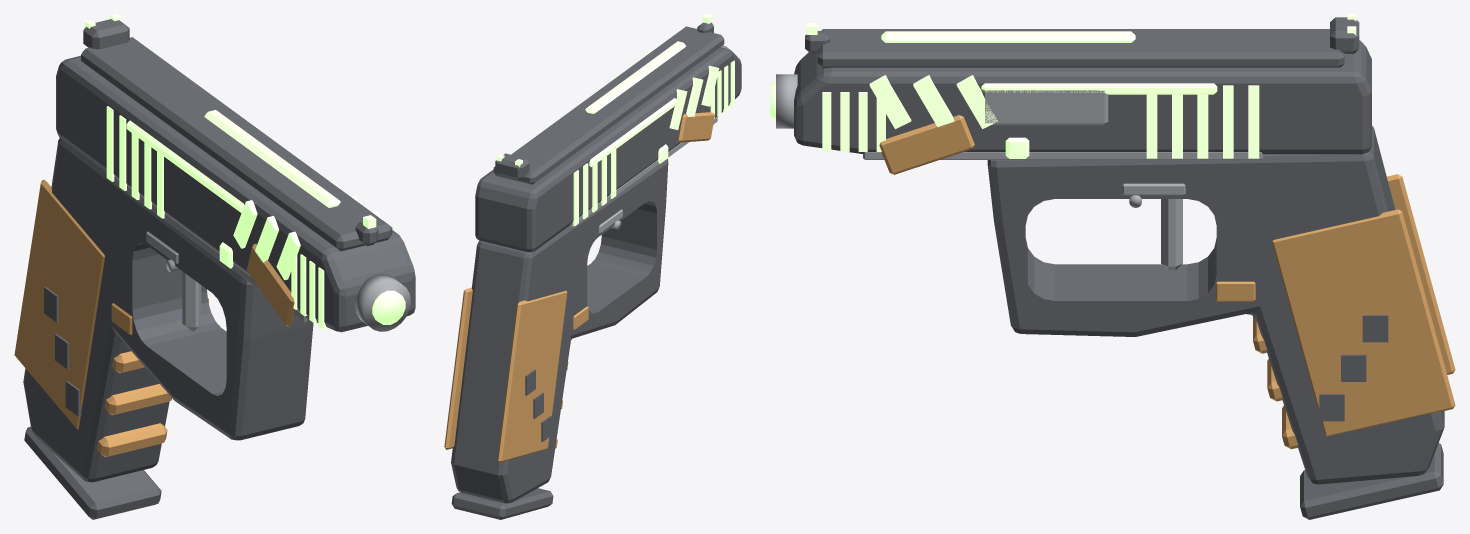
The model's file is sidearm.glb.
3 renders of one model, left to right at view 1: azimuth 30°, elevation 25°; view 2: azimuth 150°, elevation 25°; view 3: azimuth 270°, elevation 25°, orthographic. The views are drawn at different scales.
Visible parts, largest first — view 1: weapon_sidearm; view 2: weapon_sidearm; view 3: weapon_sidearm.
Part boxes in pixels (box(x1,y1,x2,y2)): weapon_sidearm: box(14, 14, 415, 519); weapon_sidearm: box(444, 14, 741, 519); weapon_sidearm: box(770, 14, 1455, 519).
Bounding box in the file's own units: 0.0524 × 0.2698 × 0.3469.
